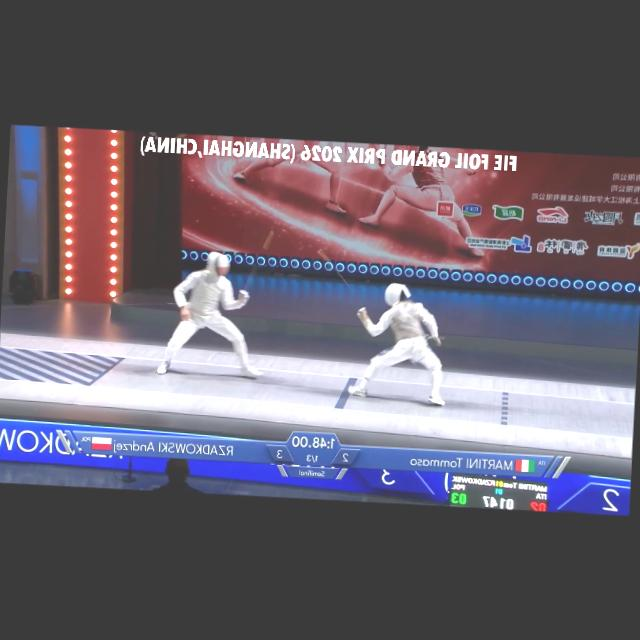blade: (312, 246, 374, 316), (238, 224, 280, 303)
